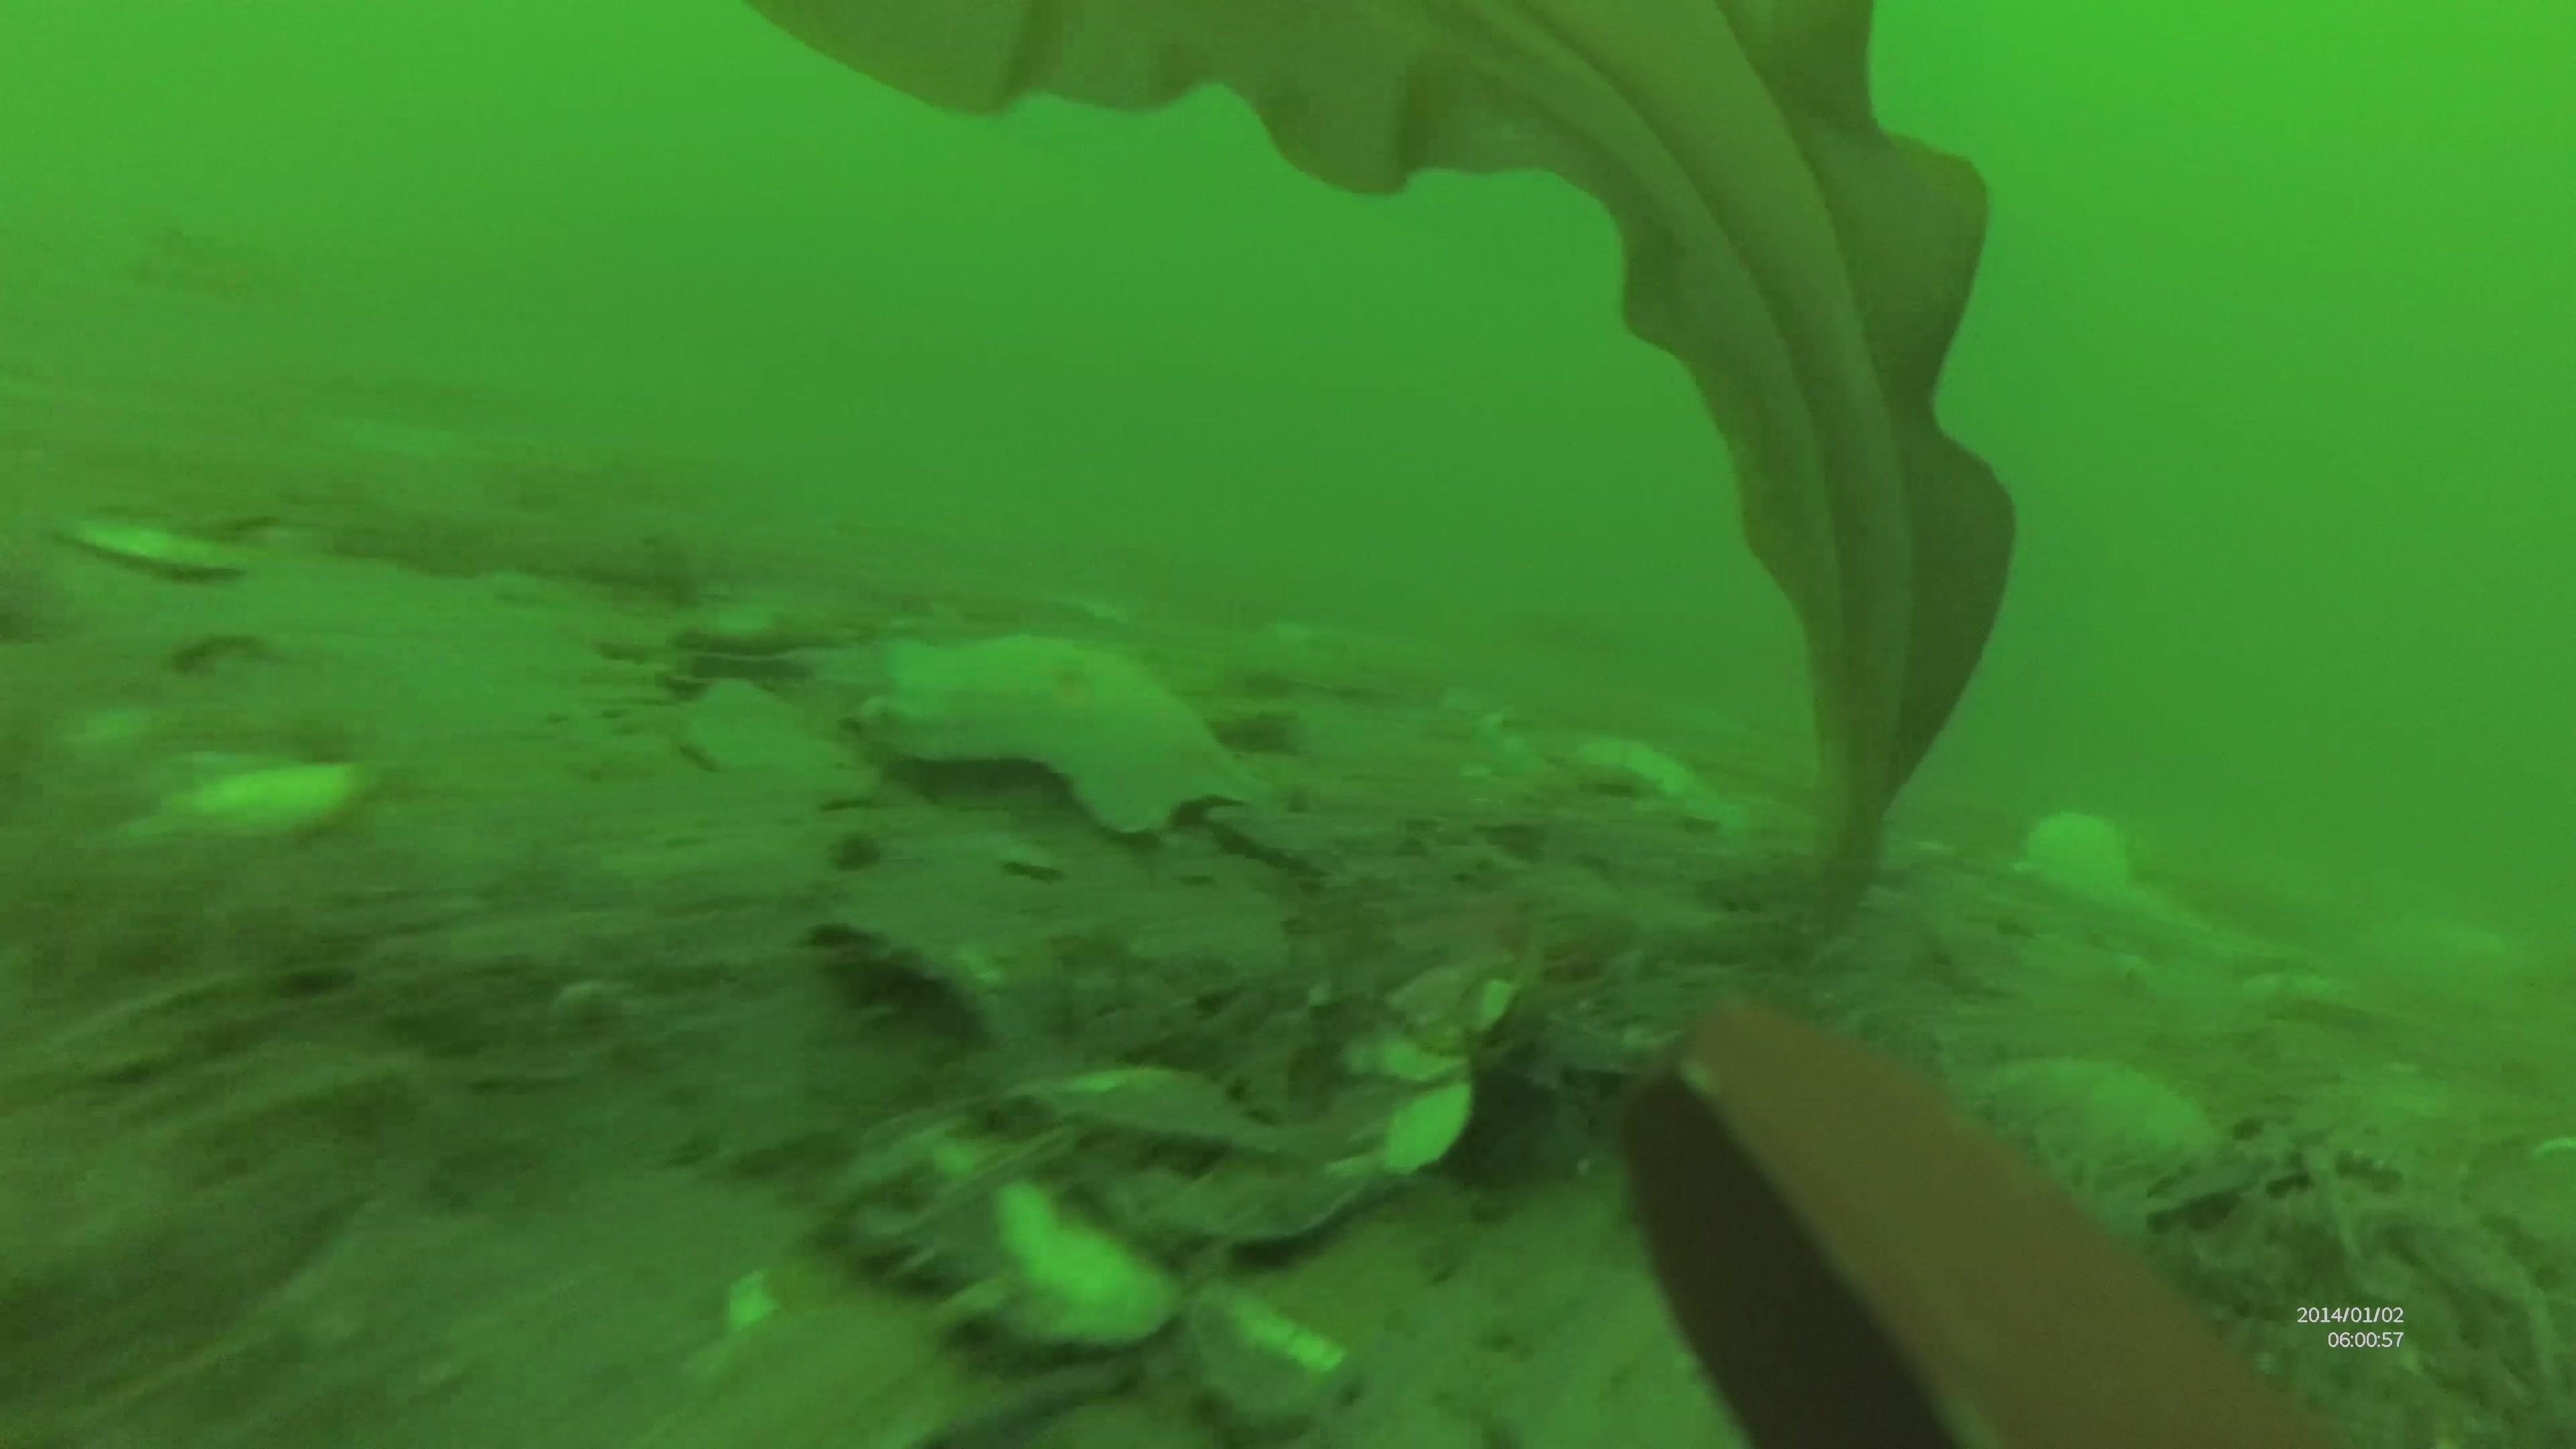starfish: (849, 621, 1272, 846), (1967, 1047, 2226, 1207), (1550, 727, 1755, 840)
